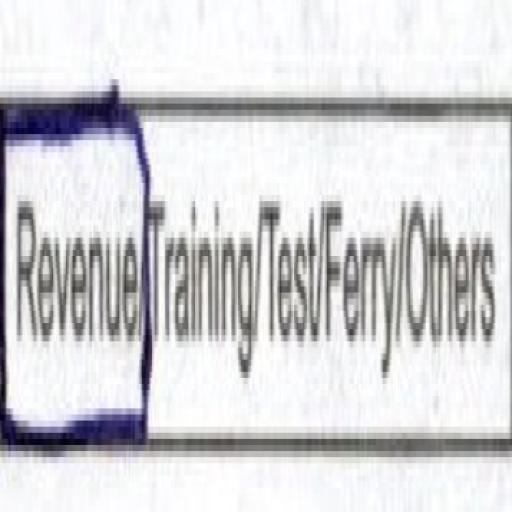check: (0, 43, 149, 469)
